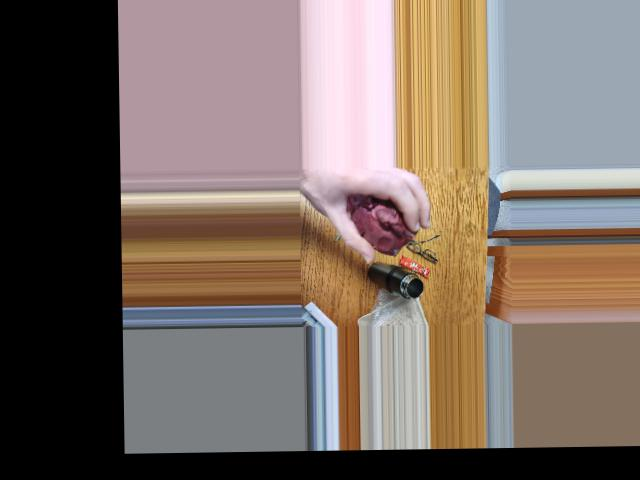onion: (347, 193, 417, 247)
